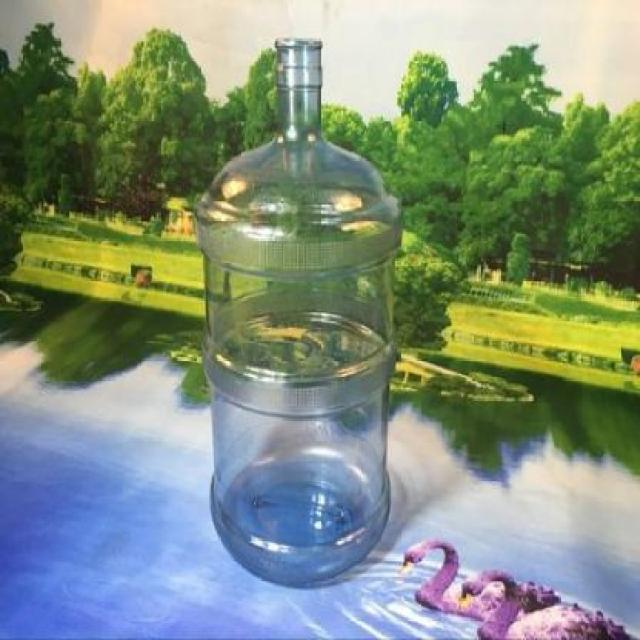coolerbottle: (189, 35, 408, 591)
